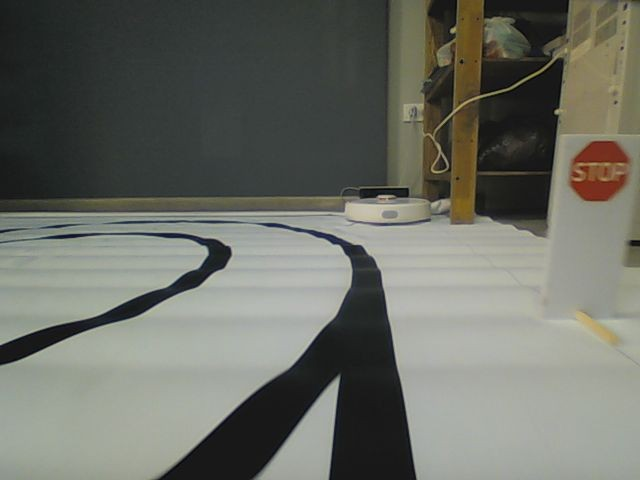Stop: (567, 140, 630, 203)
